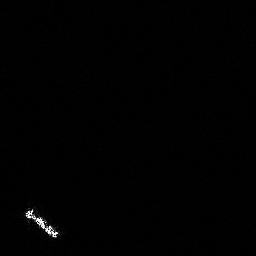ship: (26, 210, 59, 238)
